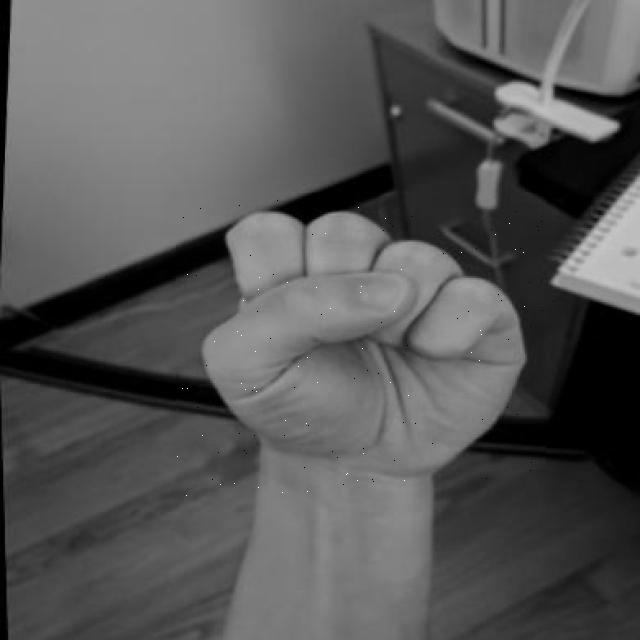S: (176, 194, 546, 496)
